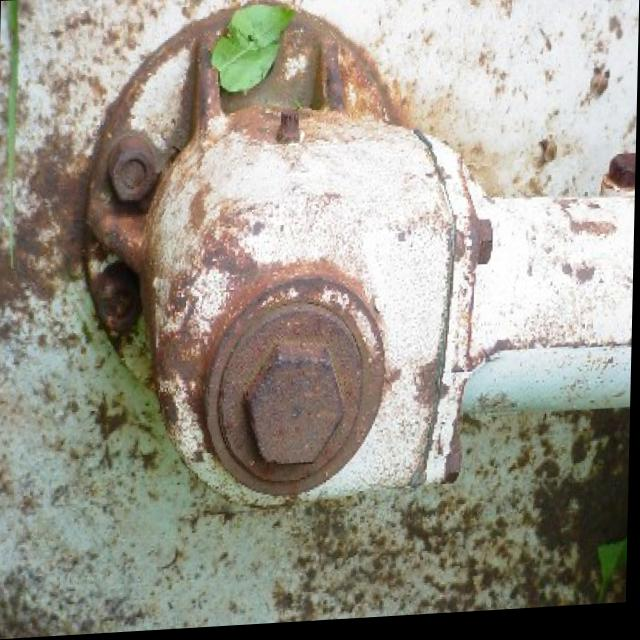Rusty bolt: (250, 343, 348, 474), (109, 137, 158, 202), (610, 161, 638, 195), (479, 225, 496, 271)
